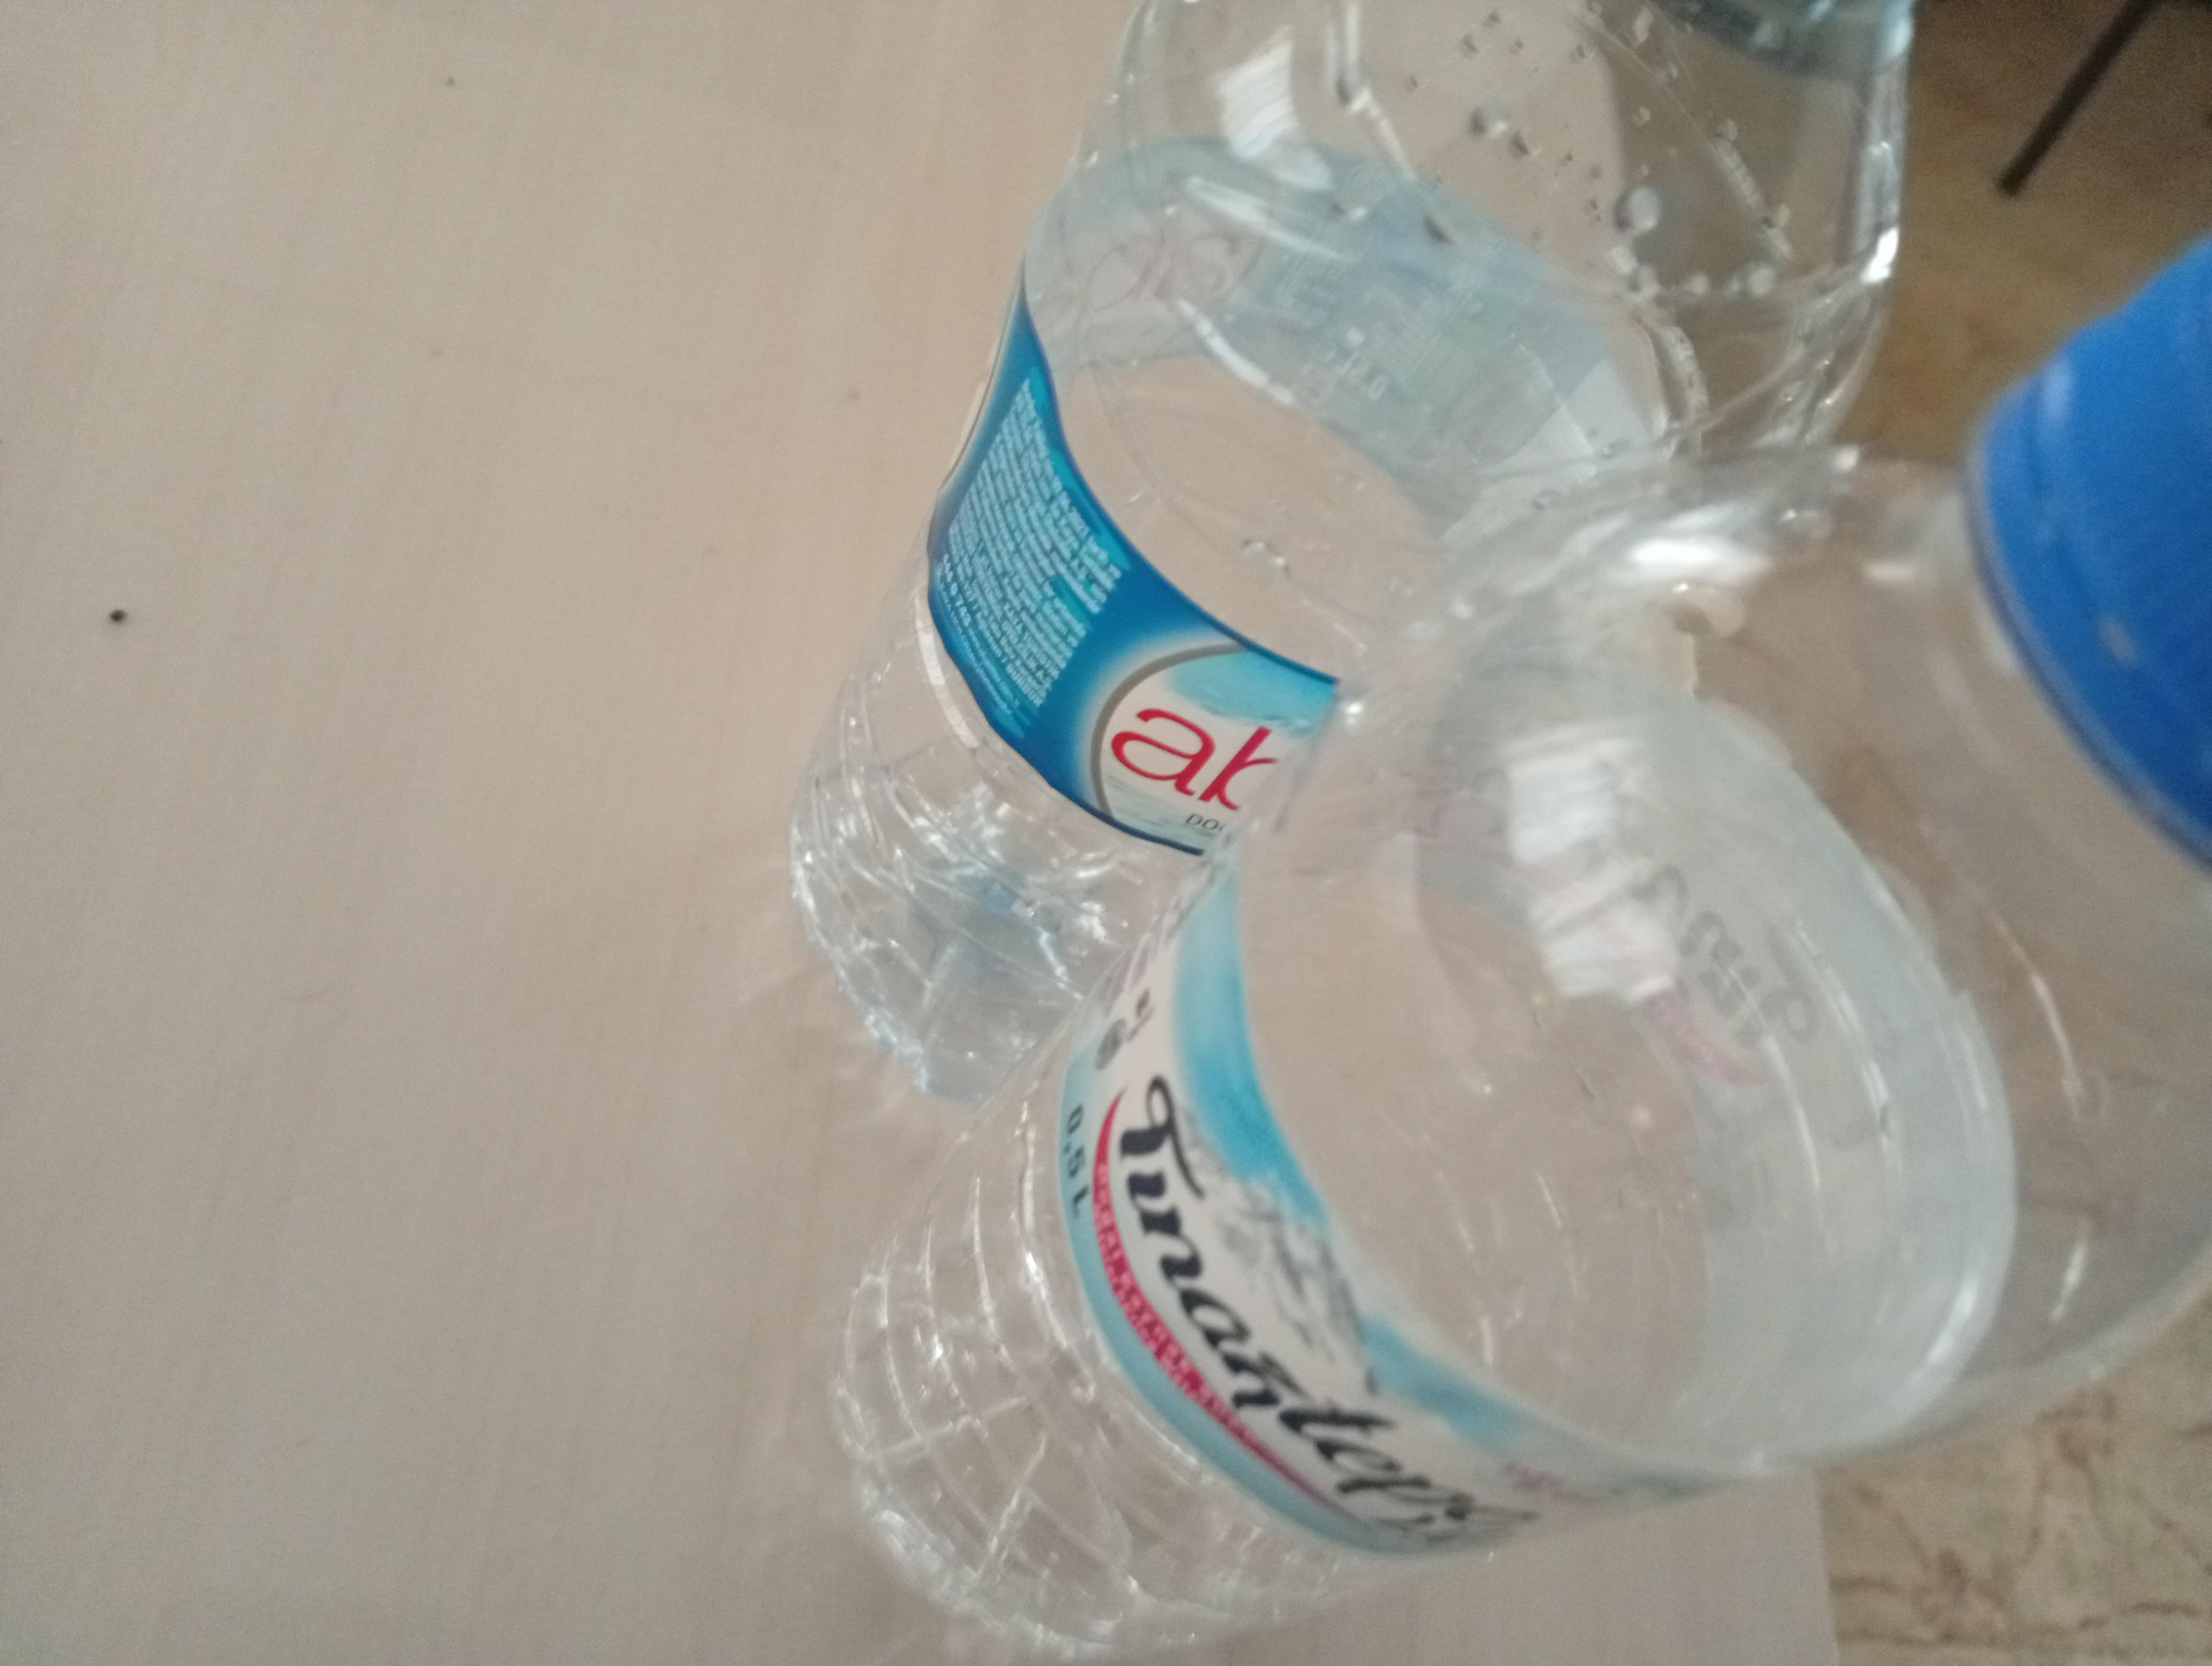etiketli: (818, 247, 2212, 1666), (804, 0, 1978, 1096)
